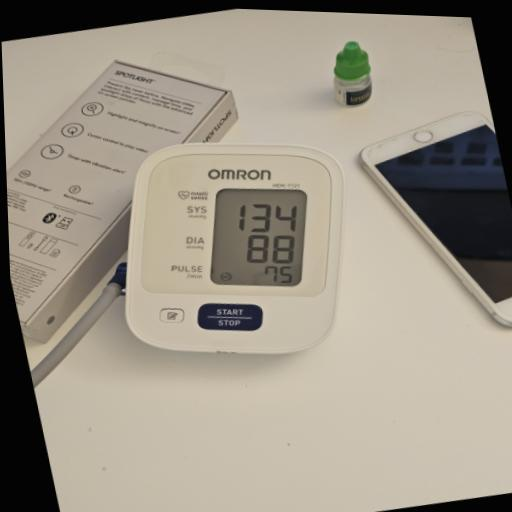blood pressure monitor: (89, 113, 383, 385)
